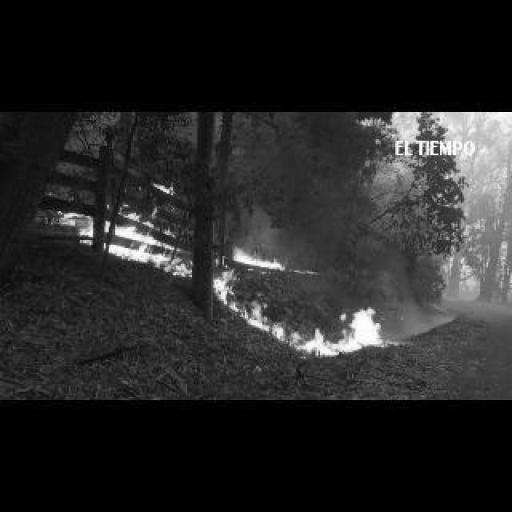smoke: (248, 302, 382, 358), (104, 210, 190, 275), (56, 211, 93, 245), (232, 246, 283, 269), (213, 269, 240, 312), (150, 181, 174, 195), (293, 267, 325, 277)
